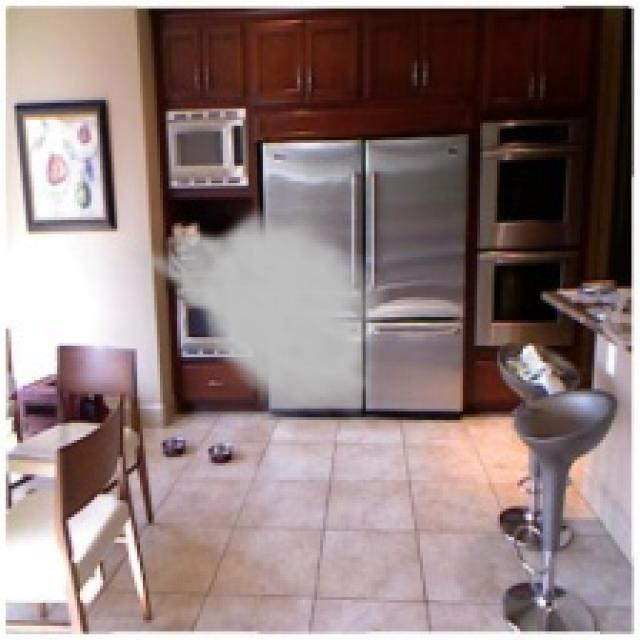smoke: (120, 203, 389, 428)
